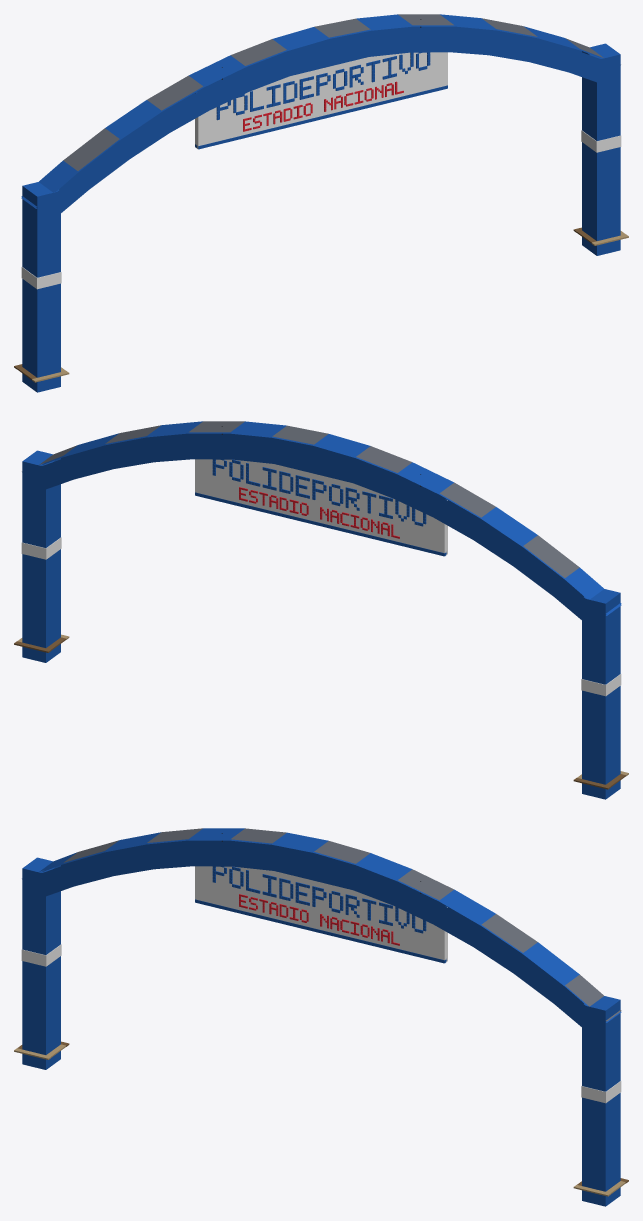
Rendered from poli_fachada.obj.
The picture shows the model from 3 angles, top to bottom: view 1: azimuth 30°, elevation 25°; view 2: azimuth 150°, elevation 25°; view 3: azimuth 330°, elevation 25°; orthographic projection.
Parts seen in each view (by area): view 1: poli_fachada; view 2: poli_fachada; view 3: poli_fachada.
Boxes of the visible parts, box(x1,y1,x2,y2) form: poli_fachada: box(14, 14, 628, 392); poli_fachada: box(14, 421, 628, 799); poli_fachada: box(14, 828, 628, 1206).
Size of the model in its own units: 27.6 by 12.6 by 1.68.
